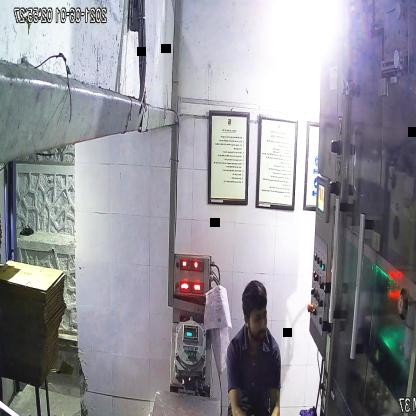no_goggles: (243, 304, 272, 329)
